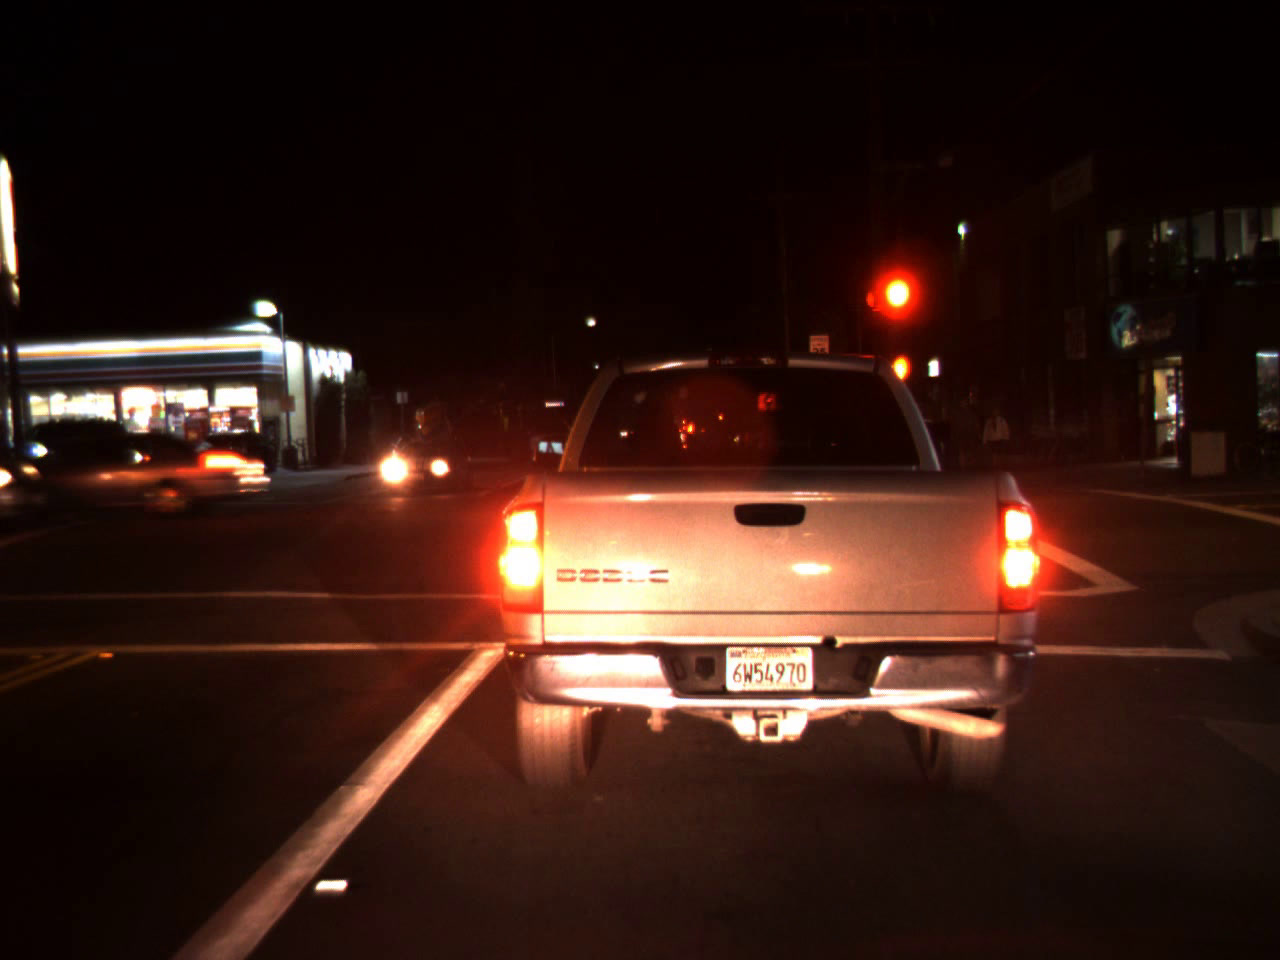stop: (876, 273, 913, 348)
